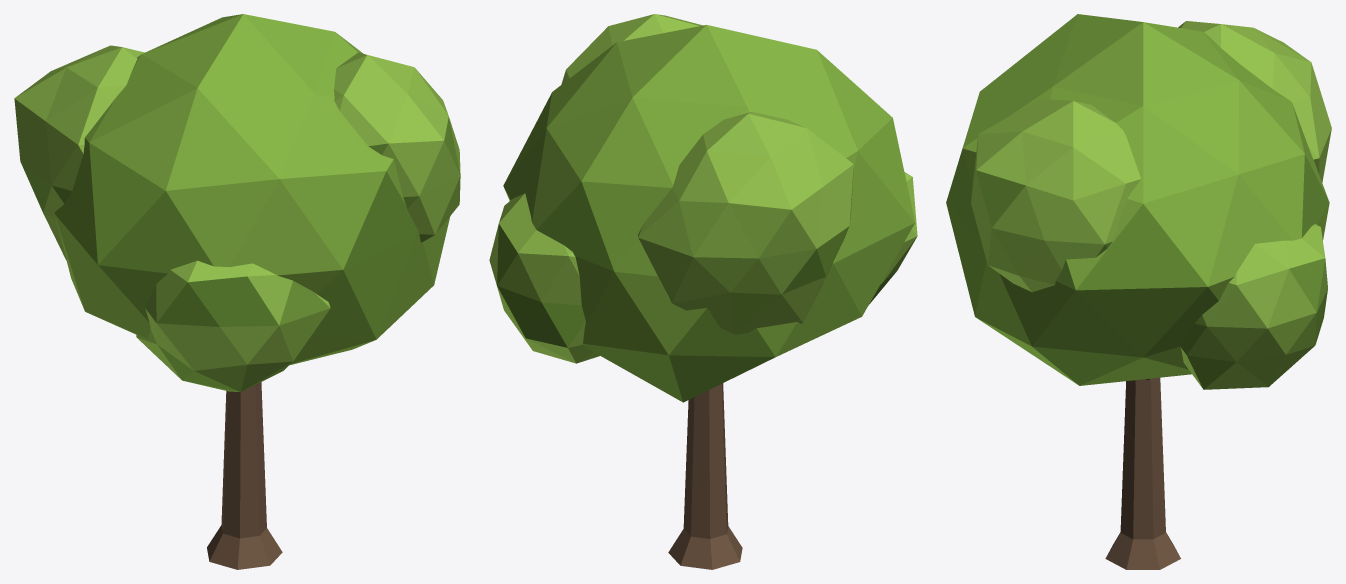
File: tree_maple.glb
The picture shows the model from 3 angles, left to right: view 1: azimuth 30°, elevation 25°; view 2: azimuth 150°, elevation 25°; view 3: azimuth 270°, elevation 25°; orthographic projection.
Visible parts, largest first — view 1: tree_maple; view 2: tree_maple; view 3: tree_maple.
Part boxes in pixels (x1=…): tree_maple: x1=14, y1=14, x2=460, y2=569; tree_maple: x1=489, y1=14, x2=917, y2=569; tree_maple: x1=946, y1=14, x2=1331, y2=569.
Size of the model in its own units: 5.29 by 7.56 by 4.96.
